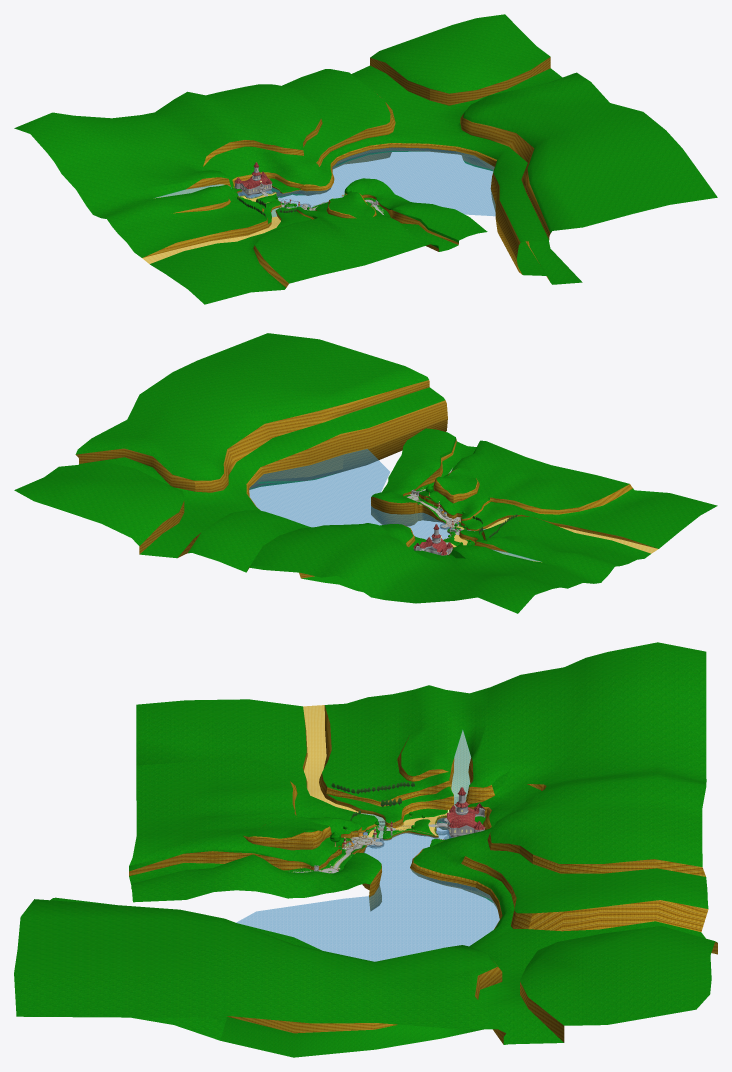
File: super_mario_galaxy_mushroom_kingdom.glb
3 renders of one model, top to bottom at view 1: azimuth 30°, elevation 25°; view 2: azimuth 150°, elevation 25°; view 3: azimuth 270°, elevation 25°, orthographic. The views are drawn at different scales.
Visible parts, largest first — view 1: Object_34, Object_56, Object_32, Object_38, Object_6; view 2: Object_34, Object_56, Object_32, Object_38; view 3: Object_34, Object_56, Object_32, Object_38, Object_30, Object_14, Object_6.
Boxes of the visible parts, left/top/right/bottom form: Object_34: left=14, top=14, right=717, bottom=304; Object_56: left=143, top=57, right=550, bottom=287; Object_32: left=237, top=147, right=495, bottom=216; Object_38: left=142, top=184, right=296, bottom=263; Object_6: left=234, top=167, right=378, bottom=209; Object_34: left=14, top=333, right=717, bottom=613; Object_56: left=76, top=380, right=656, bottom=578; Object_32: left=249, top=449, right=451, bottom=548; Object_38: left=446, top=518, right=658, bottom=562; Object_34: left=14, top=642, right=717, bottom=1057; Object_56: left=129, top=705, right=717, bottom=1044; Object_32: left=236, top=817, right=499, bottom=961; Object_38: left=303, top=705, right=470, bottom=838; Object_30: left=362, top=730, right=470, bottom=838; Object_14: left=343, top=787, right=485, bottom=844; Object_6: left=301, top=795, right=485, bottom=872.
Bounding box in the file's own units: 58.44 × 9.73 × 48.03.
29 materials, 29 textured.
